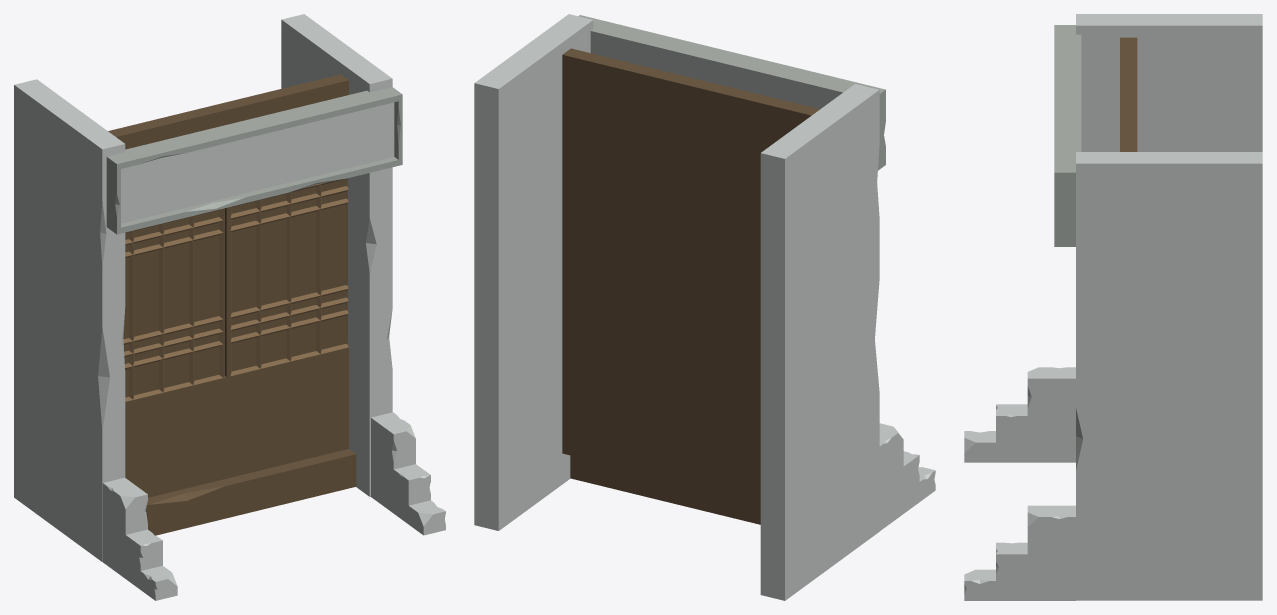
Rendered from SM_Env_Door_04.fbx.
3 views of the same model, side by side, from view 1: azimuth 30°, elevation 25°; view 2: azimuth 150°, elevation 25°; view 3: azimuth 270°, elevation 25° (orthographic). The views are drawn at different scales.
Visible parts, largest first — view 1: SM_Env_Door_04; view 2: SM_Env_Door_04; view 3: SM_Env_Door_04.
Part boxes in pixels (x1=…): SM_Env_Door_04: x1=14, y1=14, x2=445, y2=600; SM_Env_Door_04: x1=474, y1=14, x2=935, y2=600; SM_Env_Door_04: x1=964, y1=14, x2=1262, y2=600.
Bounding box in the file's own units: 123 × 167 × 103.
Materials: 1 (1 with a texture image).
